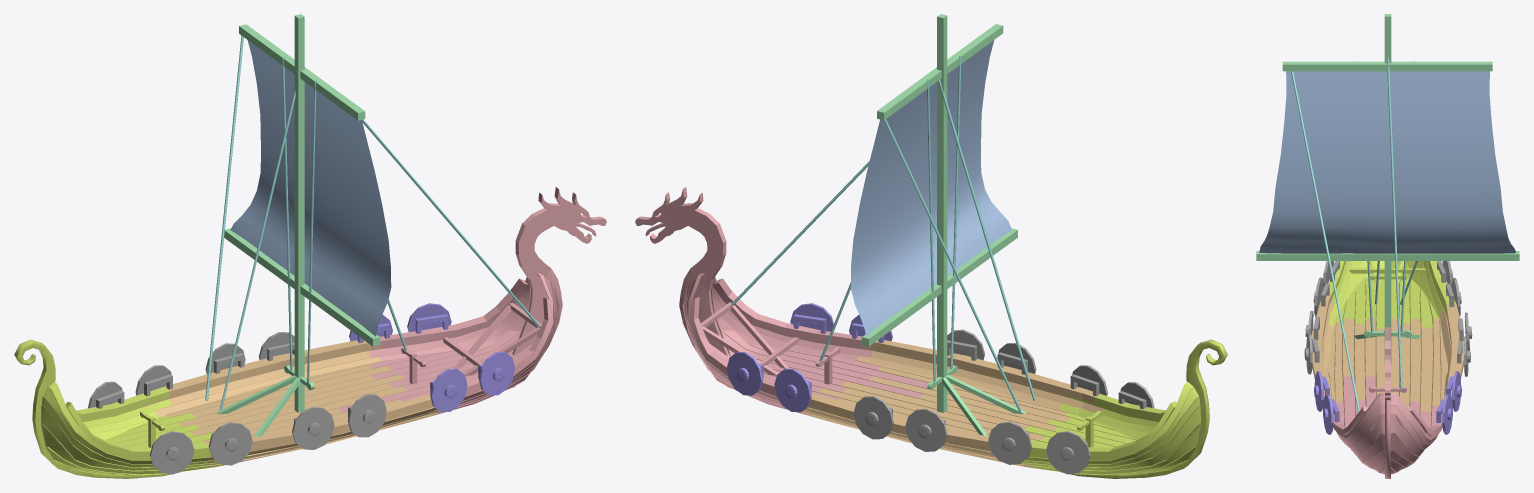
Rendered from longship.fbx.
The picture shows the model from 3 angles, left to right: view 1: azimuth 30°, elevation 25°; view 2: azimuth 150°, elevation 25°; view 3: azimuth 270°, elevation 25°; orthographic projection. The views are drawn at different scales.
Parts seen in each view (by area): view 1: polySurface267, polySurface265, polySurface240, polySurface266, polySurface268, pCylinder7, pCube45, pCube46, pCube44; view 2: polySurface267, polySurface265, polySurface240, polySurface266, polySurface268, pCylinder7, pCube45, pCube46, pCube44; view 3: polySurface267, polySurface240, polySurface265, polySurface266, polySurface268, pCylinder7, pCube44, pCube46, pCube45.
Boxes of the visible parts, x1=… form: polySurface267: x1=230, y1=40, x2=391, y2=336; polySurface265: x1=337, y1=187, x2=606, y2=418; polySurface240: x1=144, y1=340, x2=439, y2=470; polySurface266: x1=14, y1=339, x2=248, y2=478; polySurface268: x1=216, y1=14, x2=380, y2=437; pCylinder7: x1=205, y1=35, x2=540, y2=410; pCube45: x1=88, y1=365, x2=252, y2=474; pCube46: x1=205, y1=332, x2=386, y2=449; pCube44: x1=349, y1=303, x2=514, y2=412; polySurface267: x1=851, y1=40, x2=1011, y2=336; polySurface265: x1=635, y1=187, x2=928, y2=418; polySurface240: x1=800, y1=340, x2=1102, y2=468; polySurface266: x1=996, y1=339, x2=1227, y2=478; polySurface268: x1=861, y1=14, x2=1025, y2=436; pCylinder7: x1=731, y1=56, x2=1035, y2=412; pCube45: x1=988, y1=365, x2=1154, y2=474; pCube46: x1=853, y1=329, x2=1036, y2=451; pCube44: x1=727, y1=303, x2=892, y2=412; polySurface267: x1=1259, y1=71, x2=1515, y2=253; polySurface240: x1=1311, y1=294, x2=1463, y2=415; polySurface265: x1=1323, y1=327, x2=1452, y2=478; polySurface266: x1=1328, y1=261, x2=1456, y2=330; polySurface268: x1=1256, y1=14, x2=1519, y2=364; pCylinder7: x1=1291, y1=58, x2=1418, y2=412; pCube44: x1=1314, y1=371, x2=1461, y2=434; pCube46: x1=1304, y1=311, x2=1472, y2=376; pCube45: x1=1313, y1=261, x2=1461, y2=316.
Size of the model in its own units: 28.02 by 19.43 by 12.28.
